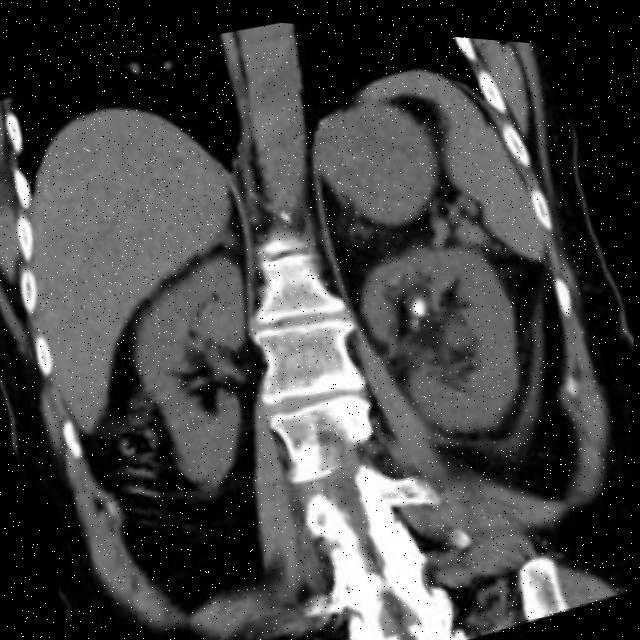Tas_Var: (410, 288, 431, 313)
